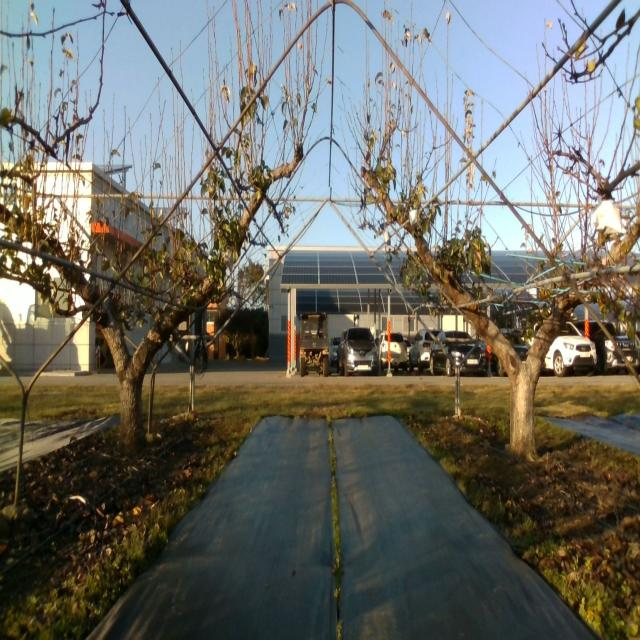pearbags: (593, 195, 626, 238), (222, 248, 234, 273)
